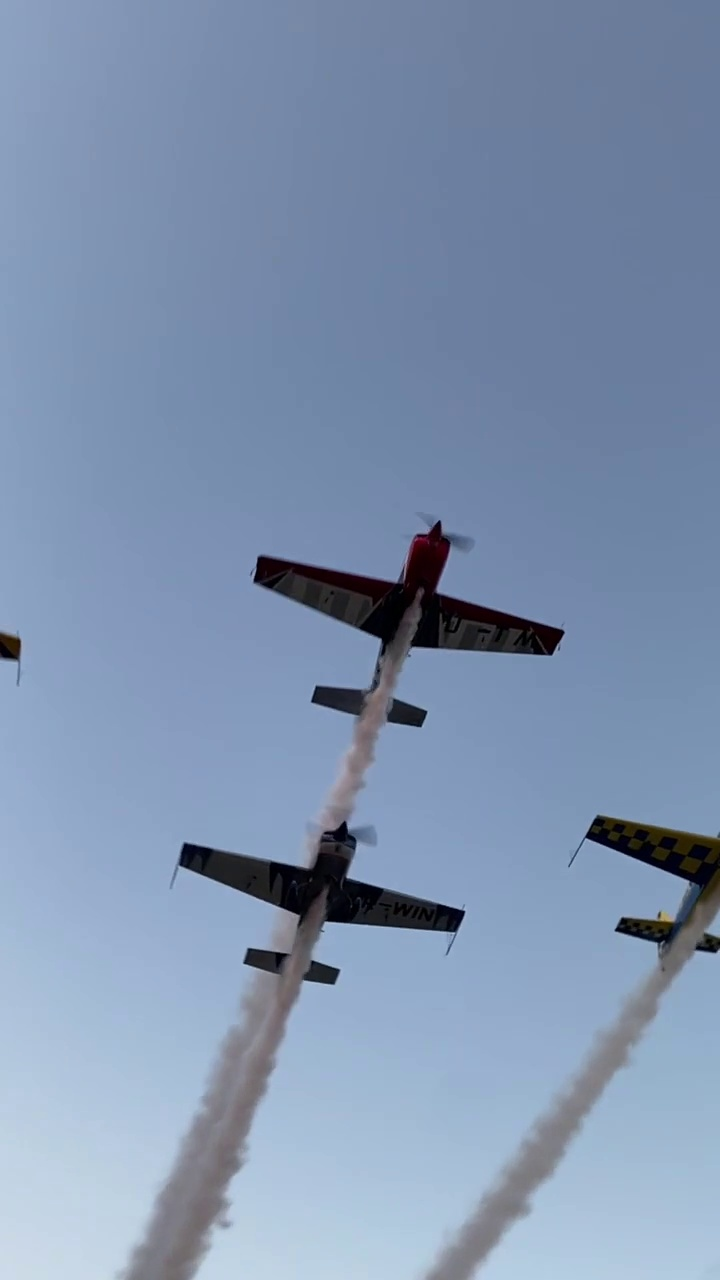plane: (252, 511, 568, 724), (177, 807, 465, 986), (569, 811, 720, 962)
